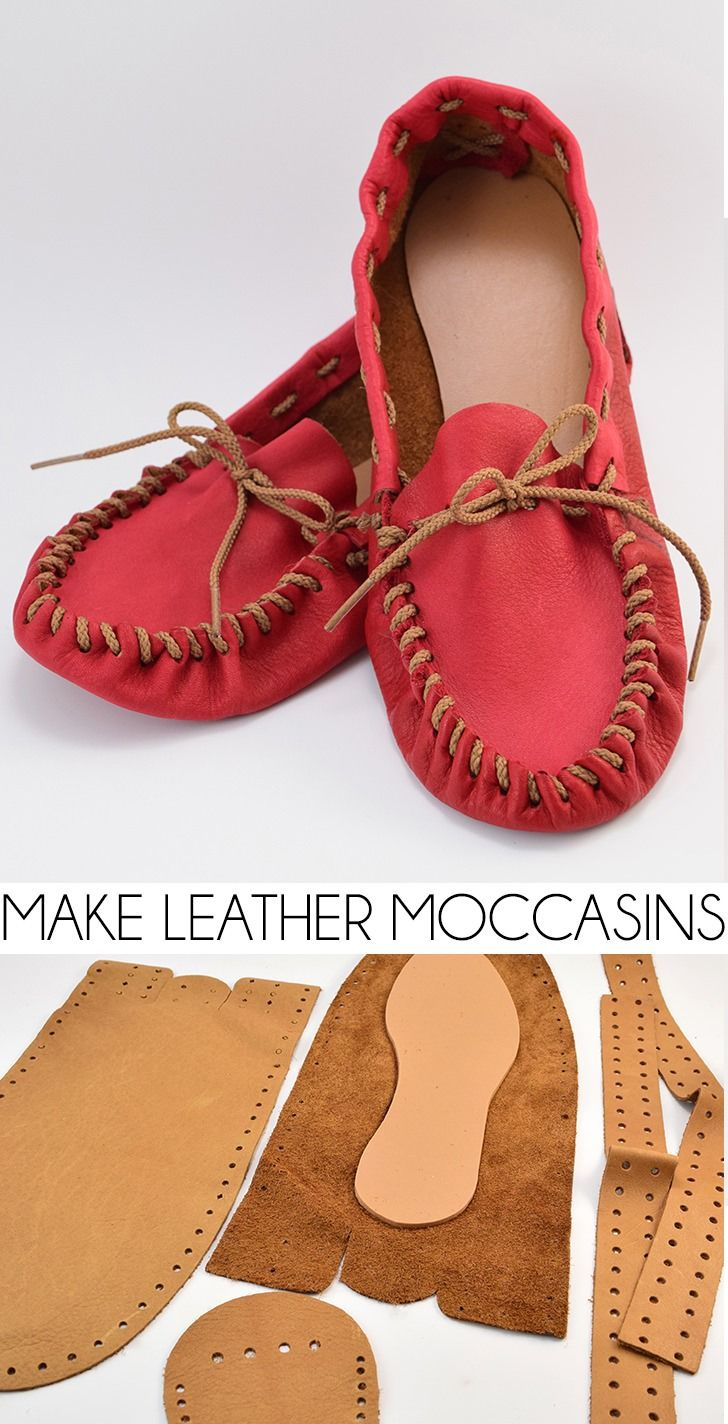cuero: (12, 77, 679, 836)
